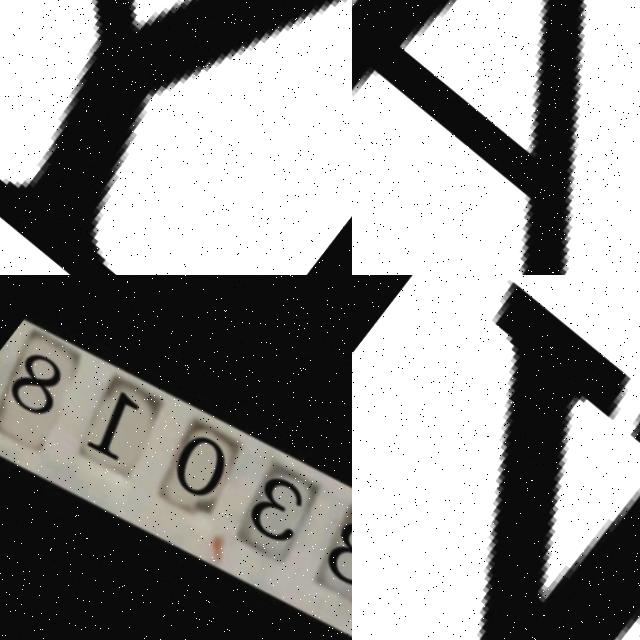0: (137, 401, 263, 529)
1: (57, 362, 182, 489)
3: (213, 443, 338, 569), (286, 484, 352, 616)
8: (0, 317, 103, 451)
A: (352, 0, 640, 275)
W: (352, 275, 640, 640)
Y: (0, 0, 352, 275)
